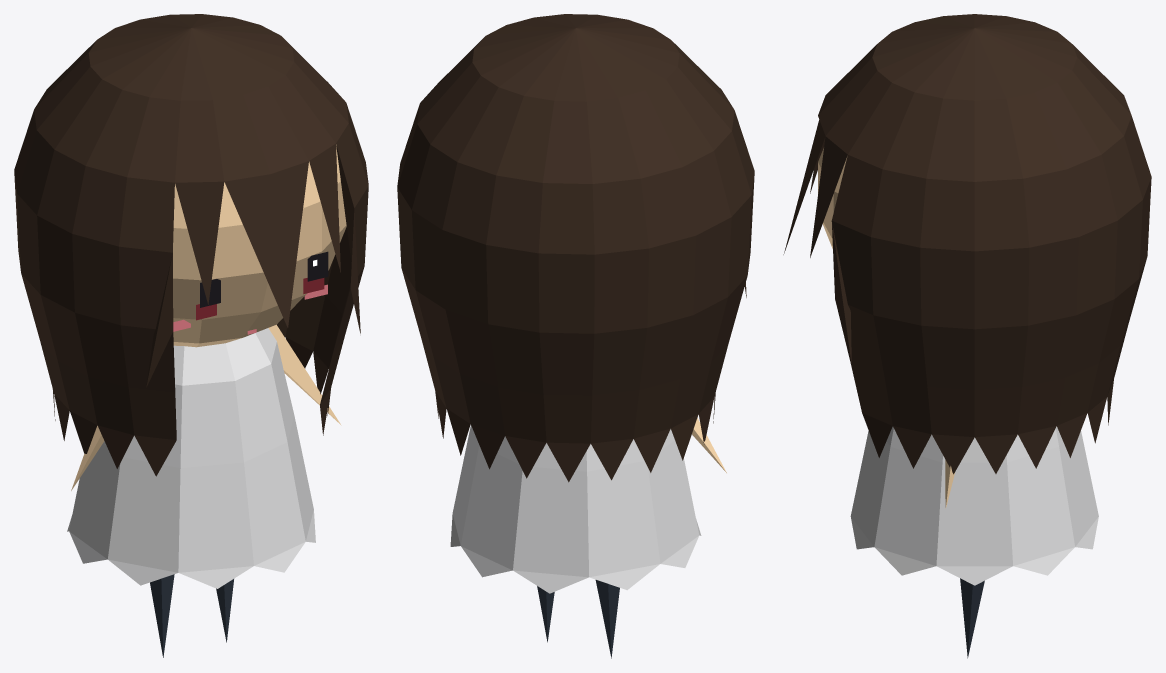
The model's file is lp_bob.glb.
3 views of the same model, side by side, from view 1: azimuth 30°, elevation 25°; view 2: azimuth 150°, elevation 25°; view 3: azimuth 270°, elevation 25° (orthographic).
Visible parts, largest first — view 1: hair, cloth, skin, armR, legL, eye, legR, eyec; view 2: hair, cloth, legL; view 3: hair, cloth, legR, skin.
Boxes of the visible parts, x1,y1,x2,y2 form: hair: (14, 14, 368, 476); cloth: (67, 328, 315, 588); skin: (173, 144, 346, 347); armR: (268, 324, 341, 425); legL: (150, 574, 174, 657); eye: (200, 251, 328, 307); legR: (216, 579, 233, 642); eyec: (196, 278, 324, 320); hair: (397, 14, 754, 482); cloth: (450, 425, 701, 593); legL: (595, 580, 619, 658); hair: (783, 14, 1151, 474); cloth: (850, 426, 1098, 585); legR: (960, 578, 984, 658); skin: (818, 148, 847, 248).
Size of the model in its own units: 0.604 by 1.16 by 0.629.
